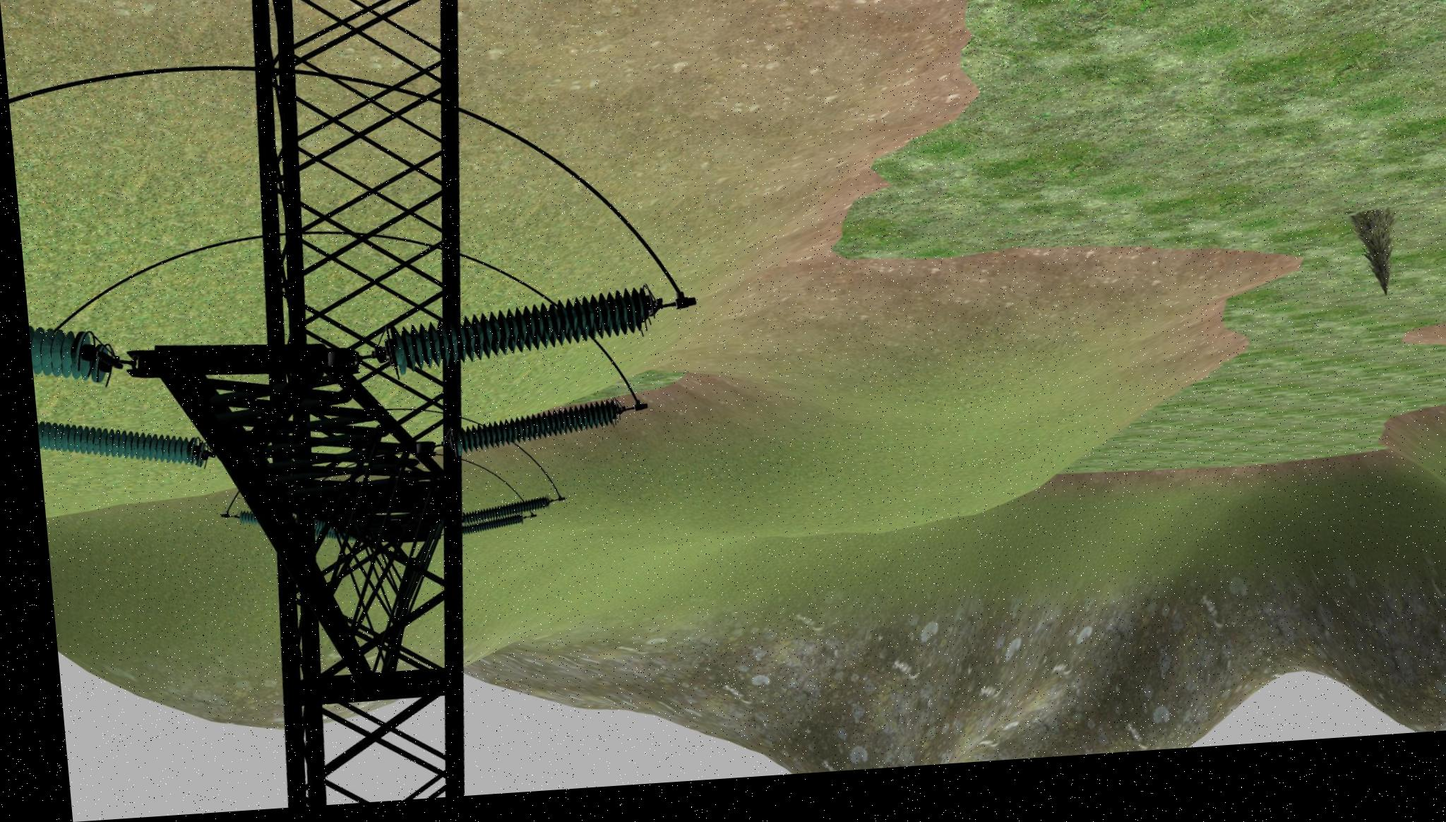tower: (122, 0, 538, 814)
